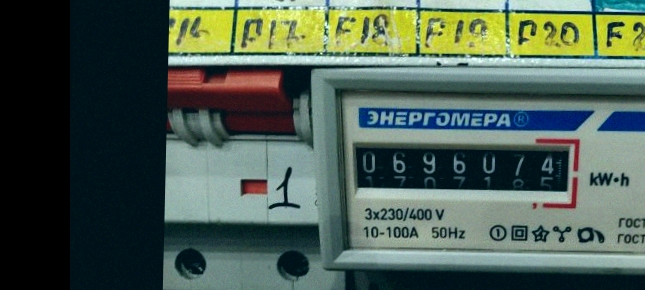0: (359, 148, 378, 173), (481, 149, 497, 175)
4: (539, 151, 555, 173)
5: (539, 176, 556, 191)
6: (452, 148, 469, 175), (391, 149, 408, 173)
7: (511, 151, 528, 176)
9: (421, 149, 437, 175)
screen: (342, 129, 584, 204)
